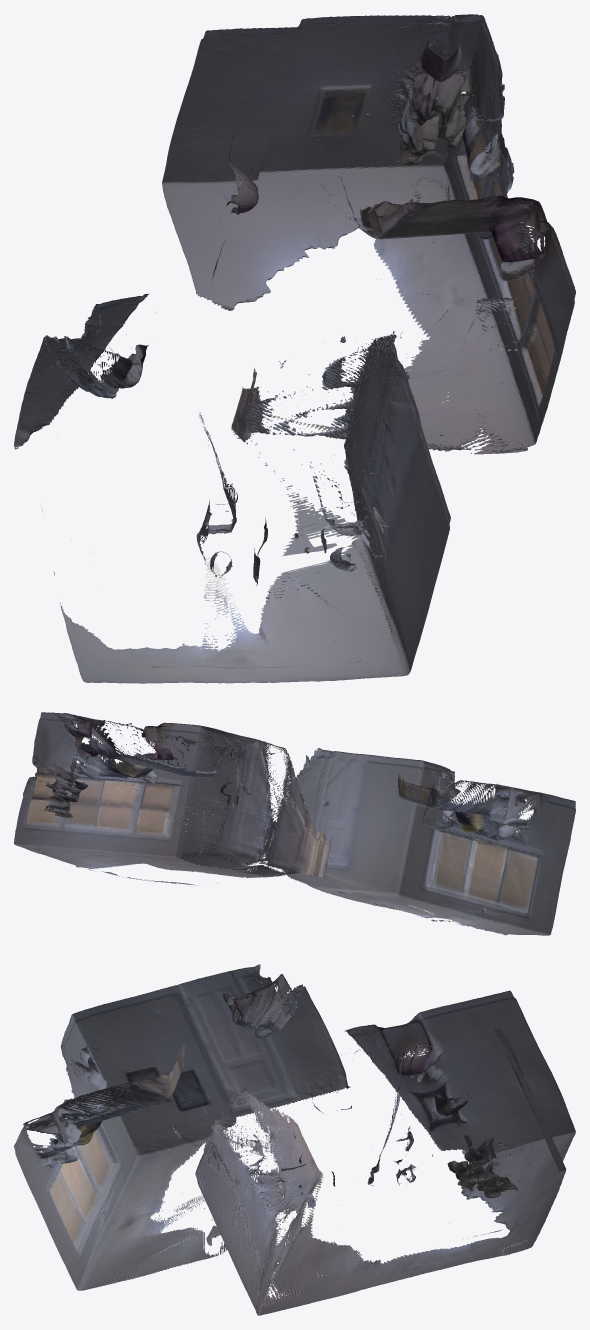
Rendered from replica_apart0.glb.
3 views of the same model, one above another, from view 1: azimuth 30°, elevation 25°; view 2: azimuth 150°, elevation 25°; view 3: azimuth 270°, elevation 25° (orthographic). The views are drawn at different scales.
Parts seen in each view (by area): view 1: world; view 2: world; view 3: world.
Boxes of the visible parts, x1,y1,x2,y2 form: world: [14, 14, 575, 683]; world: [14, 712, 575, 935]; world: [14, 964, 575, 1315].
Size of the model in its own units: 11.12 by 7.3 by 11.27.
